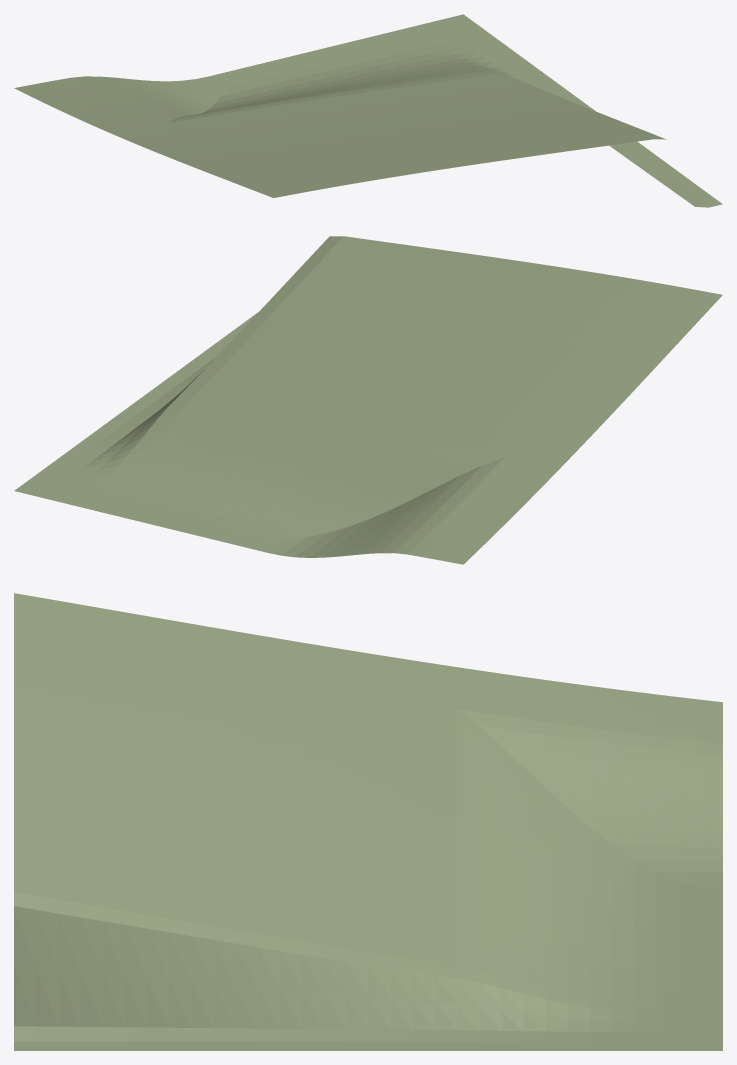
File: valley-7-13.glb
3 views of the same model, one above another, from view 1: azimuth 30°, elevation 25°; view 2: azimuth 150°, elevation 25°; view 3: azimuth 270°, elevation 25° (orthographic). The views are drawn at different scales.
Parts seen in each view (by area): view 1: valley-7-13; view 2: valley-7-13; view 3: valley-7-13.
Part boxes in pixels (left/top/right/bottom): valley-7-13: left=14, top=14, right=722, bottom=207; valley-7-13: left=14, top=236, right=722, bottom=564; valley-7-13: left=14, top=593, right=722, bottom=1050.
Size of the model in its own units: 256 by 63 by 256.
